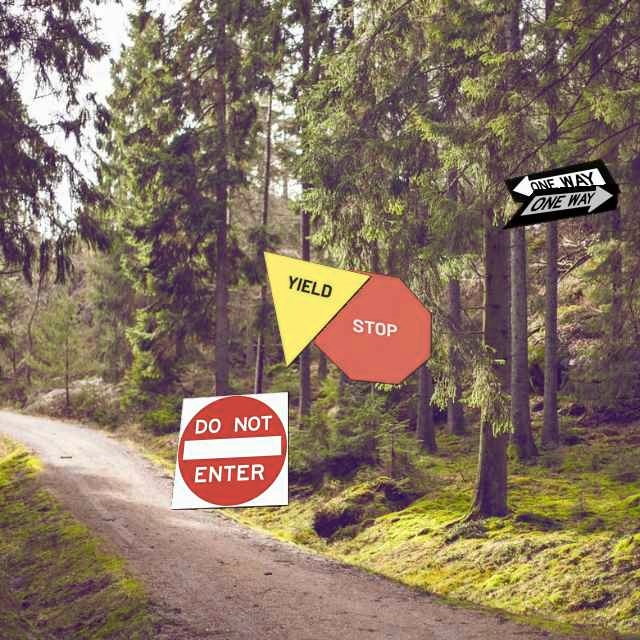DO_NOT_ENTER: (170, 391, 289, 510)
ONE_WAY_ left: (503, 158, 622, 203)
ONE_WAY_ right: (500, 183, 619, 230)
STOP: (313, 268, 432, 385)
YIELD: (262, 250, 372, 369)
